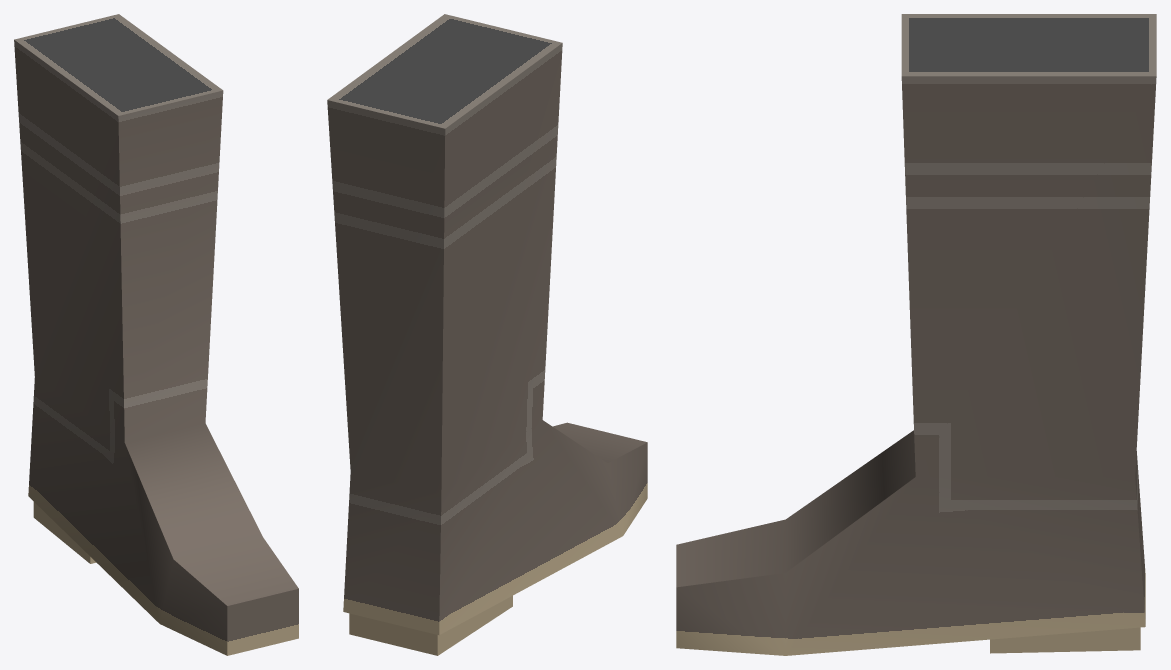
File: 0131_Rubber_Boot.glb
3 renders of one model, left to right at view 1: azimuth 30°, elevation 25°; view 2: azimuth 150°, elevation 25°; view 3: azimuth 270°, elevation 25°, orthographic. The views are drawn at different scales.
Parts seen in each view (by area): view 1: part_0; view 2: part_0; view 3: part_0.
Part boxes in pixels (box(x1,y1,x2,y2)): part_0: box(14, 14, 298, 655); part_0: box(327, 14, 647, 655); part_0: box(676, 14, 1156, 655).
Bounding box in the file's own units: 0.1103 × 0.428 × 0.3202.
1 material, 1 textured.
